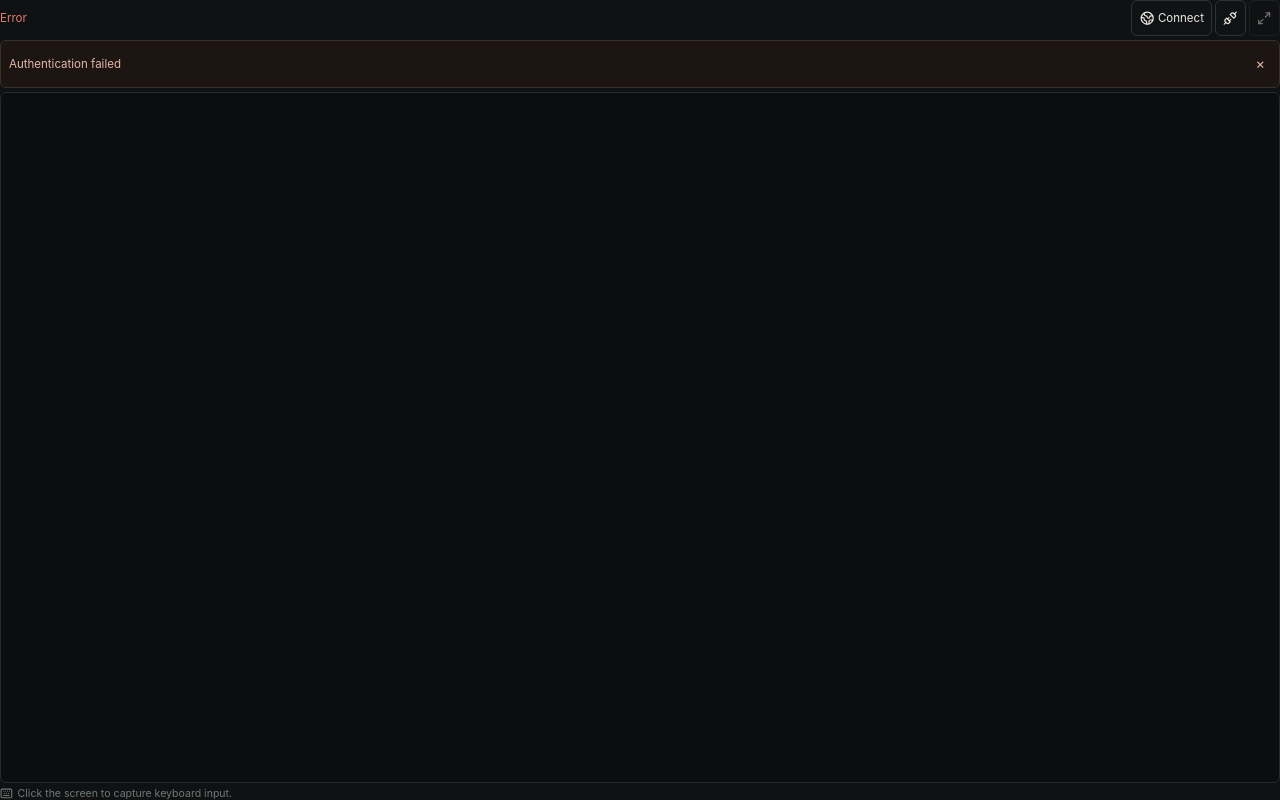
Test: VncPane › shows a security failure message and exposes dismiss
Expected: the text "Authentication failed" is shown, [9,57,121,71]
Click the button named "Dismiss message" at (1260, 64), box [1250,46,1271,82]
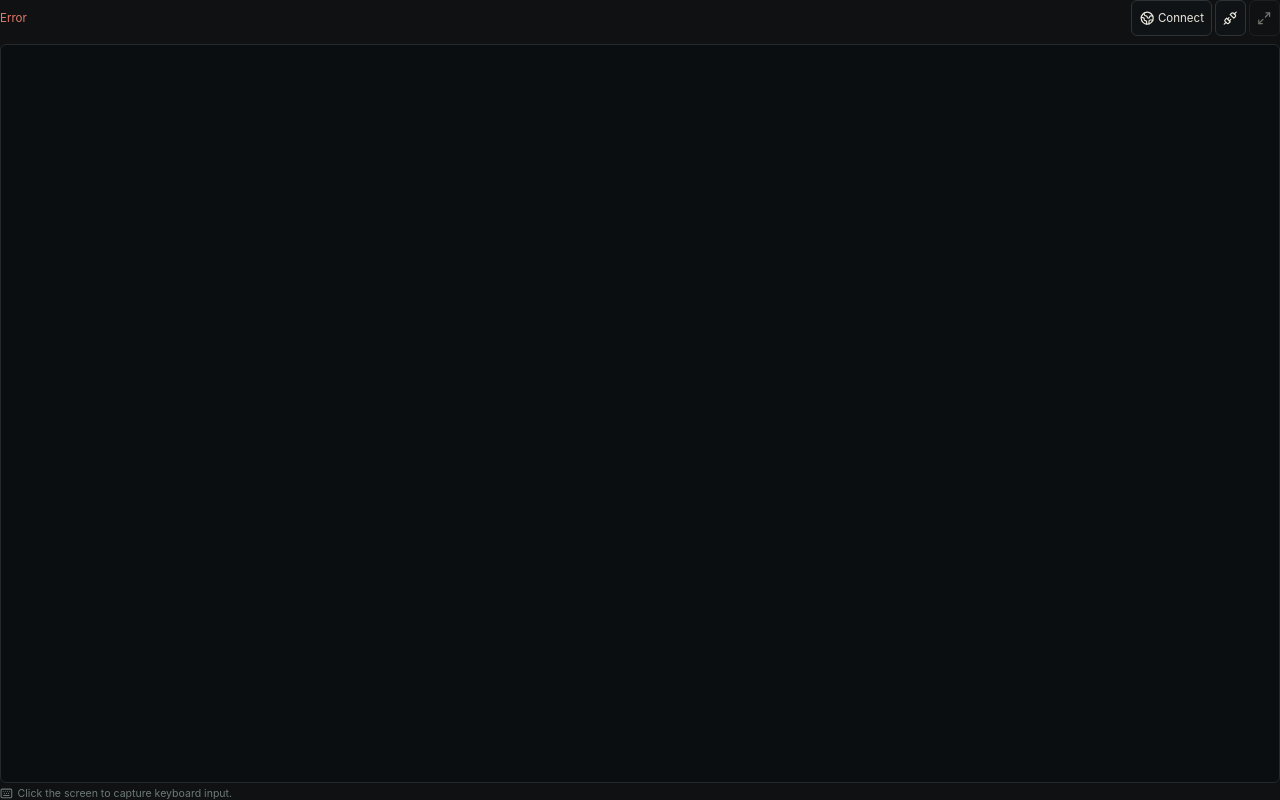
Now the text "Authentication failed" is gone
